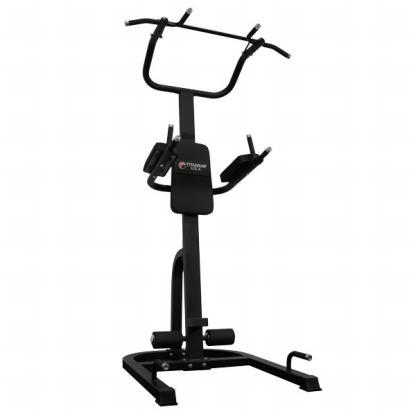chinning dipping: (123, 5, 322, 405)
